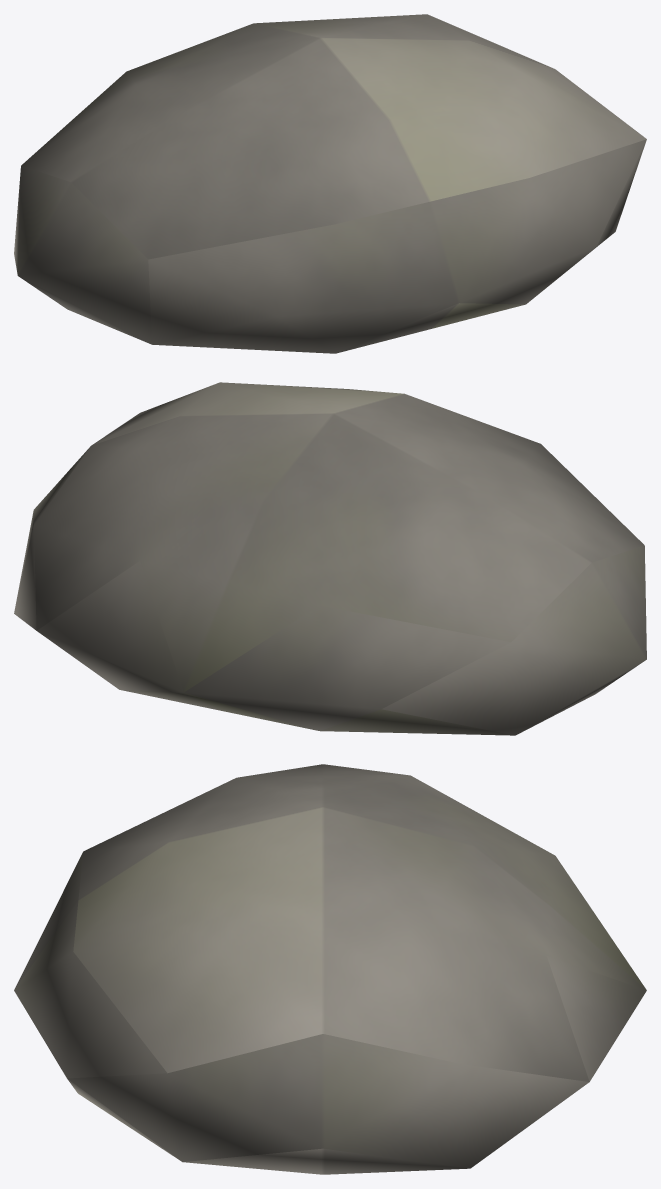
Rendered from Pebble_Round_5_LOD1.gltf.
3 views of the same model, one above another, from view 1: azimuth 30°, elevation 25°; view 2: azimuth 150°, elevation 25°; view 3: azimuth 270°, elevation 25° (orthographic). The views are drawn at different scales.
Visible parts, largest first — view 1: Pebble_Round_5_LOD1; view 2: Pebble_Round_5_LOD1; view 3: Pebble_Round_5_LOD1.
Boxes of the visible parts, x1,y1,x2,y2 form: Pebble_Round_5_LOD1: [14, 14, 646, 353]; Pebble_Round_5_LOD1: [14, 382, 646, 735]; Pebble_Round_5_LOD1: [14, 764, 646, 1174].
Size of the model in its own units: 0.5102 by 0.1817 by 0.4218.
1 material, 1 textured.
